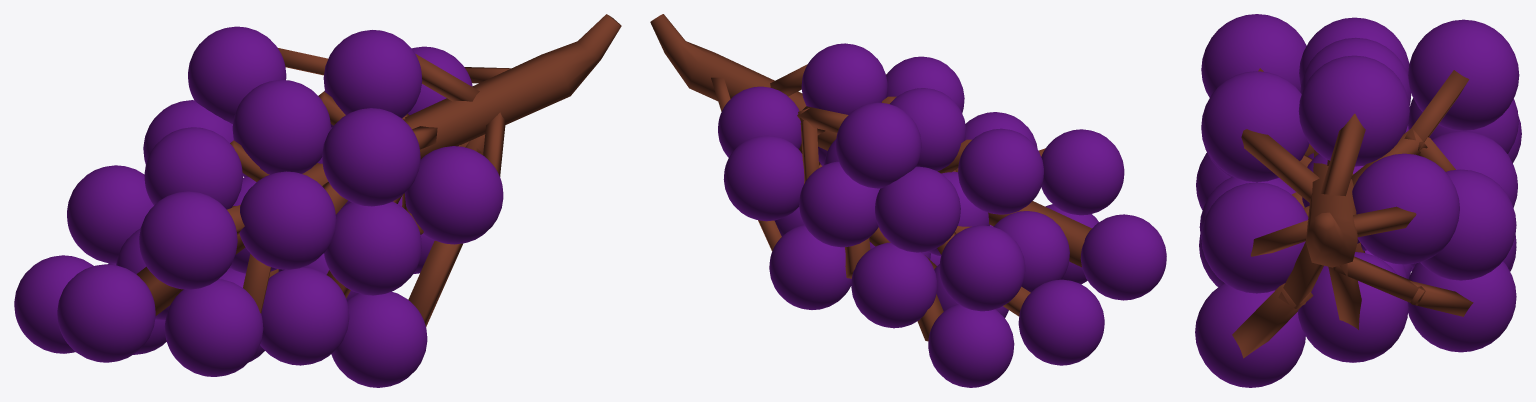
The model's file is grapes.glb.
The picture shows the model from 3 angles, left to right: view 1: azimuth 30°, elevation 25°; view 2: azimuth 150°, elevation 25°; view 3: azimuth 270°, elevation 25°; orthographic projection. The views are drawn at different scales.
Visible parts, largest first — view 1: Sphere; view 2: Sphere; view 3: Sphere.
Part boxes in pixels (x1,y1,x2,y2): Sphere: [14, 14, 621, 387]; Sphere: [650, 14, 1166, 387]; Sphere: [1195, 14, 1521, 387].
Bounding box in the file's own units: 2.2 × 1.13 × 0.969.
